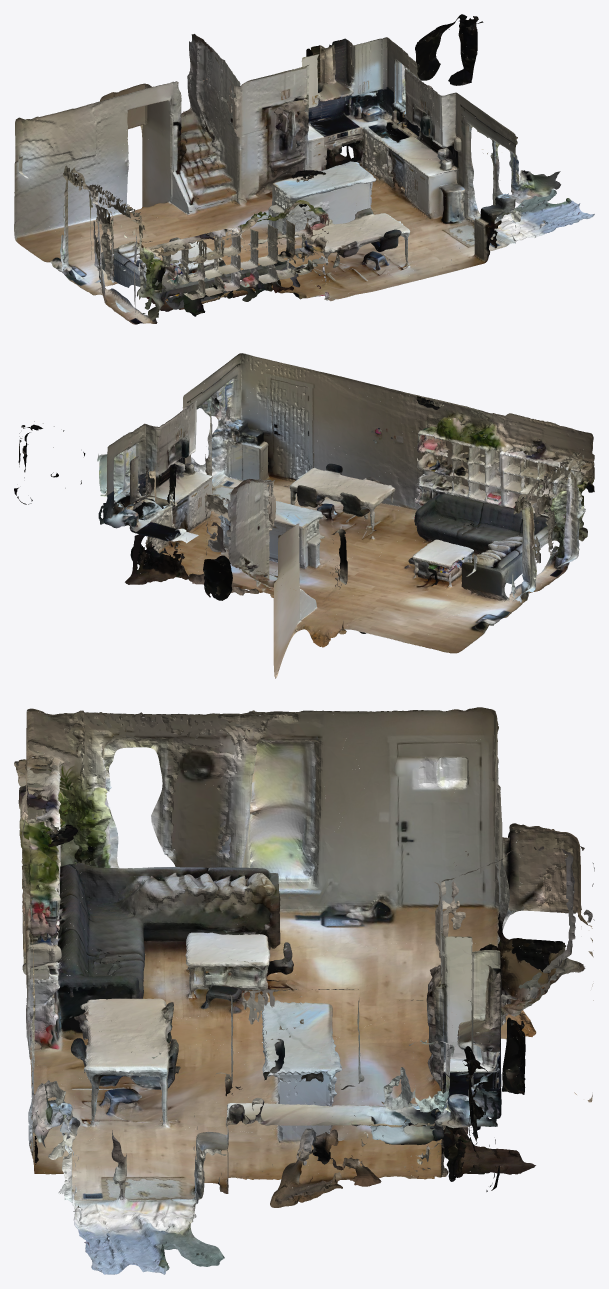
Rendered from scan-310cf3622835.glb.
3 views of the same model, one above another, from view 1: azimuth 30°, elevation 25°; view 2: azimuth 150°, elevation 25°; view 3: azimuth 270°, elevation 25° (orthographic). The views are drawn at different scales.
Bounding box in the file's own units: 9.96 × 3.68 × 6.47.
Materials: 4 (4 with a texture image).
